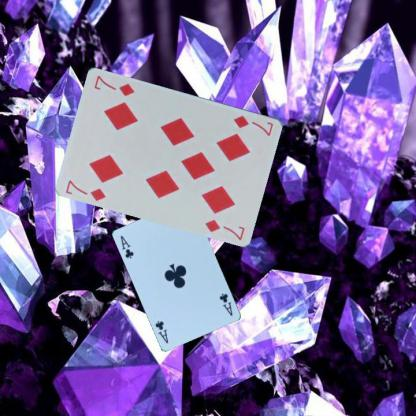7d: (231, 112, 275, 138), (63, 177, 107, 202)
Ac: (118, 233, 135, 260), (217, 291, 234, 317)
